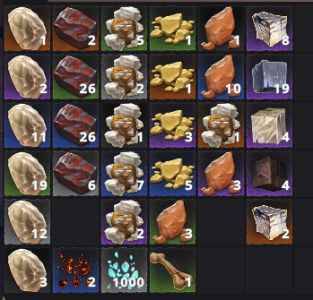chaos ember: (52, 248, 98, 291)
cinnabar mineral: (53, 55, 98, 97), (53, 103, 97, 145), (54, 6, 97, 48), (54, 151, 97, 193)
dolomite mineral: (102, 200, 146, 243), (198, 103, 242, 146), (102, 54, 145, 97), (101, 103, 145, 145), (101, 152, 145, 194), (103, 7, 145, 48)
ethereal dust: (102, 248, 146, 292)
granite stone: (248, 55, 290, 98)
halite mineral: (4, 247, 49, 292), (5, 5, 49, 49), (6, 102, 49, 147), (6, 54, 49, 97), (6, 200, 49, 243), (5, 152, 49, 194)
limestone stone: (248, 200, 292, 243), (248, 6, 291, 49)
nitre mineral: (197, 150, 242, 194), (151, 200, 194, 243), (201, 55, 242, 97), (197, 8, 241, 47)
slate stone: (248, 151, 292, 195)
sulphur mineral: (149, 7, 195, 49), (150, 55, 195, 97), (150, 151, 194, 193), (151, 104, 194, 145)
travertine stone: (246, 104, 291, 147)
